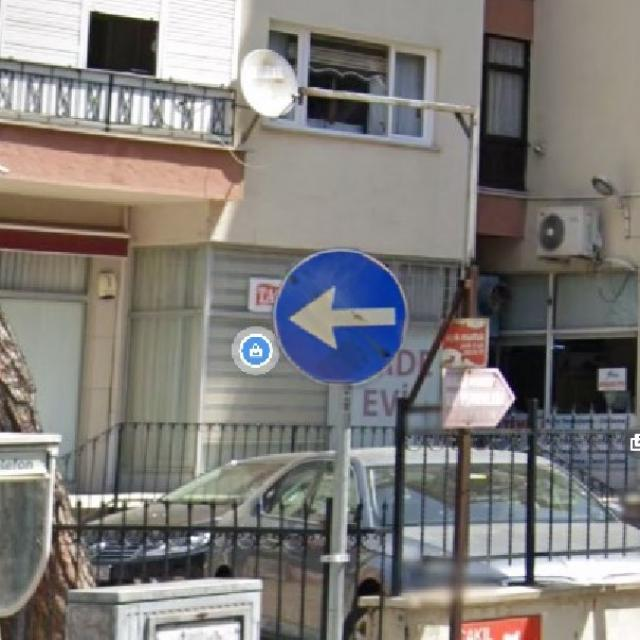Turn Left: (271, 252, 410, 381)
